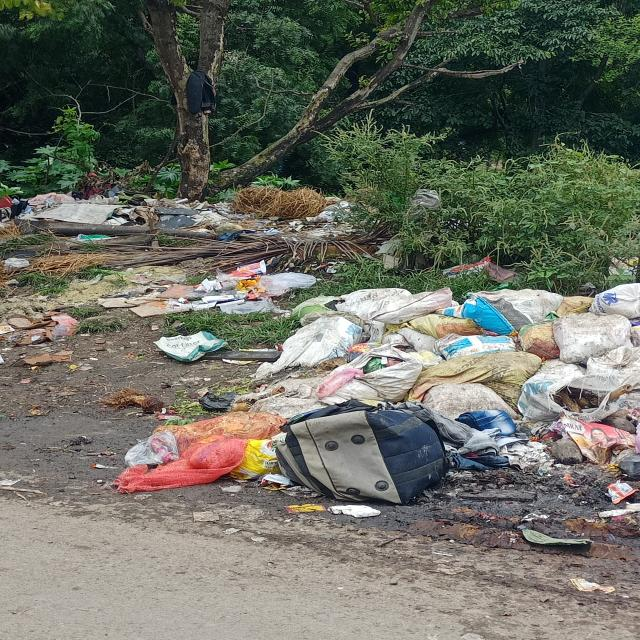garbage: (219, 287, 640, 522), (1, 186, 299, 316)
